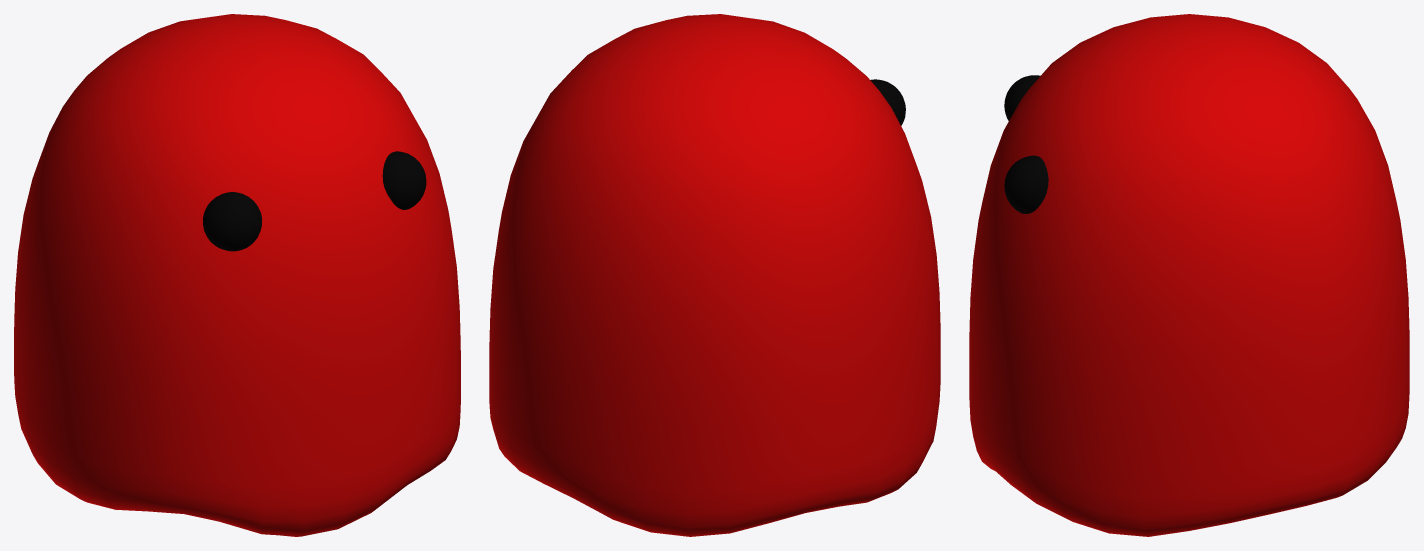
File: Ghost2.glb
3 views of the same model, side by side, from view 1: azimuth 30°, elevation 25°; view 2: azimuth 150°, elevation 25°; view 3: azimuth 270°, elevation 25° (orthographic).
Parts seen in each view (by area): view 1: Blue.001, Sphere.002; view 2: Blue.001, Sphere.002; view 3: Blue.001, Sphere.002.
Boxes of the visible parts, x1,y1,x2,y2 form: Blue.001: (14, 14, 460, 536); Sphere.002: (203, 151, 426, 251); Blue.001: (489, 14, 940, 536); Sphere.002: (870, 79, 905, 125); Blue.001: (969, 14, 1409, 536); Sphere.002: (1004, 75, 1048, 213).
Size of the model in its own units: 1.83 by 1.99 by 1.83.
